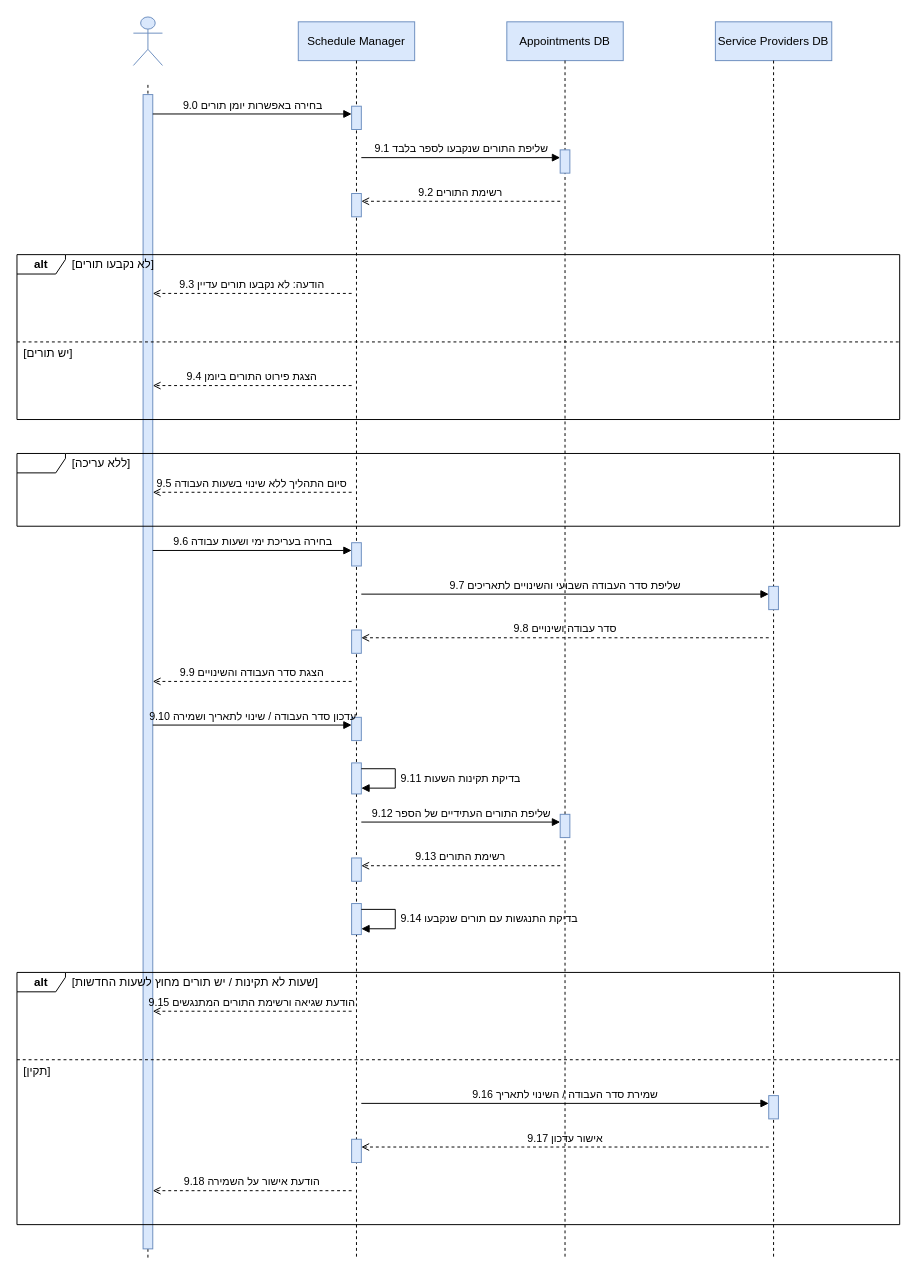
The diagram is 918 pixels wide and 1277 high, and some of its shapes have lost their labels. The box of each missing label's shape, as (x1, y1, x2, y2) in pixels:
break: (16, 453, 900, 526)
נותן שירות (ספר): (132, 16, 162, 65)
